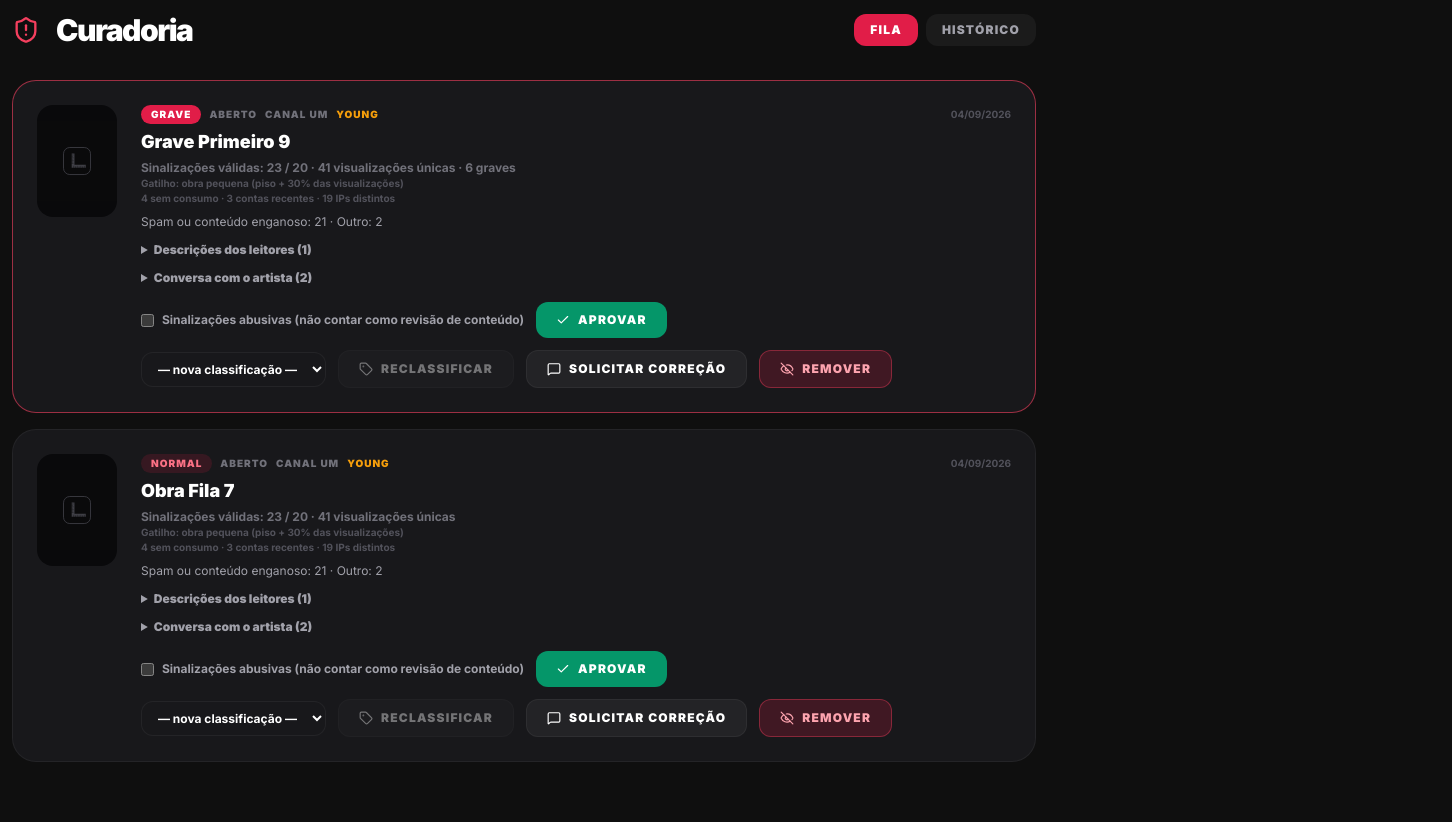
Test: CuradoriaPanel — 409 e recarga da fila › 409 no Aprovar: erro no card e refetch da fila (+ badge do dashboard)
What coordinates should you click on to do the following:
click the 2nd button "Aprovar"
I would click on:
 (601, 669)
Its box is [536,651,667,687].
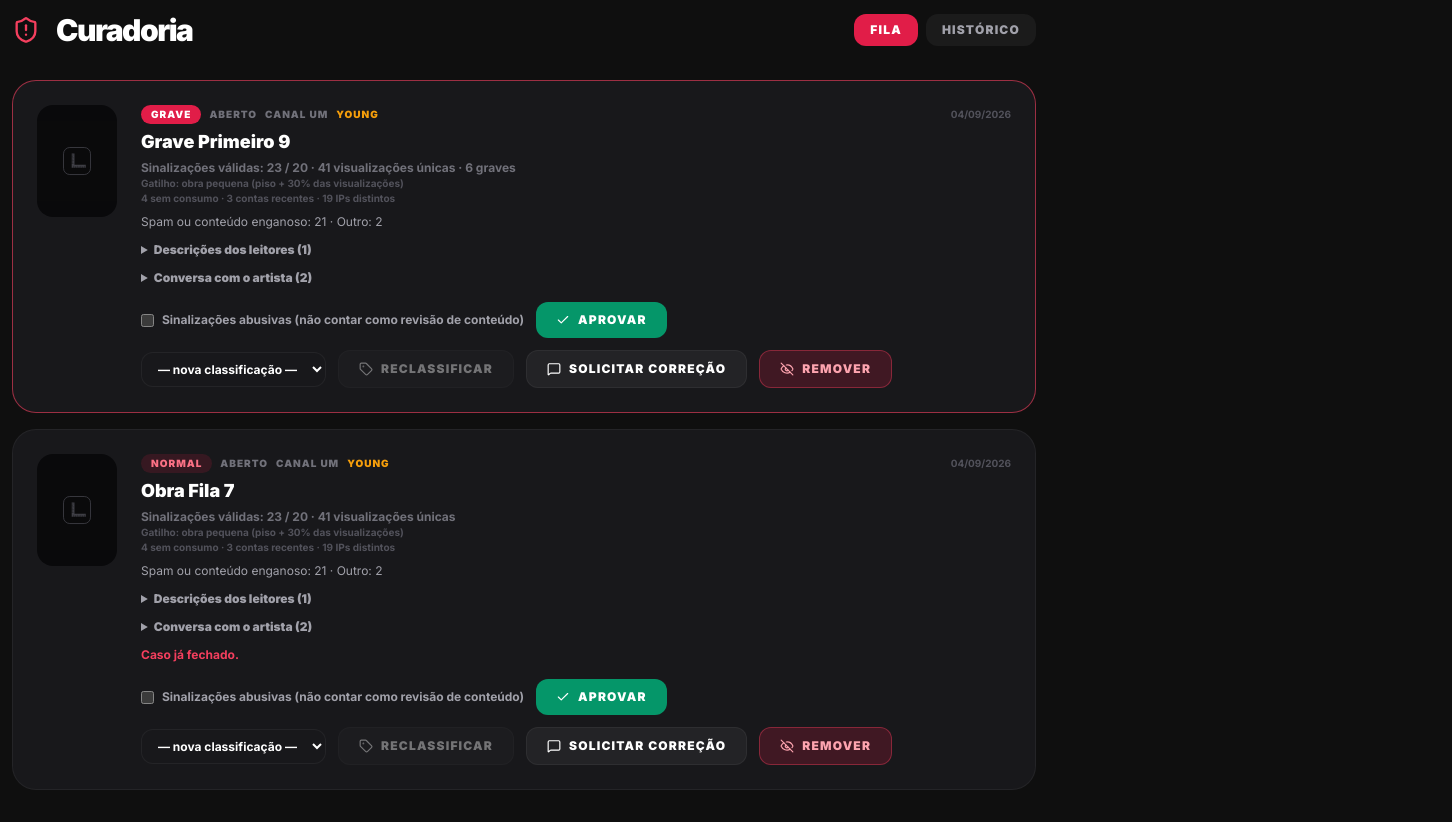
Check: the text "Caso já fechado." is shown, box [141,647,239,662]
